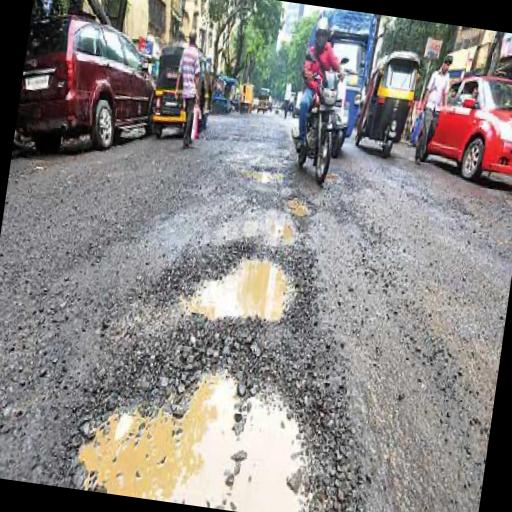pothole: (51, 317, 377, 512), (166, 230, 320, 328), (262, 208, 302, 244), (244, 160, 288, 189), (282, 186, 316, 221)
